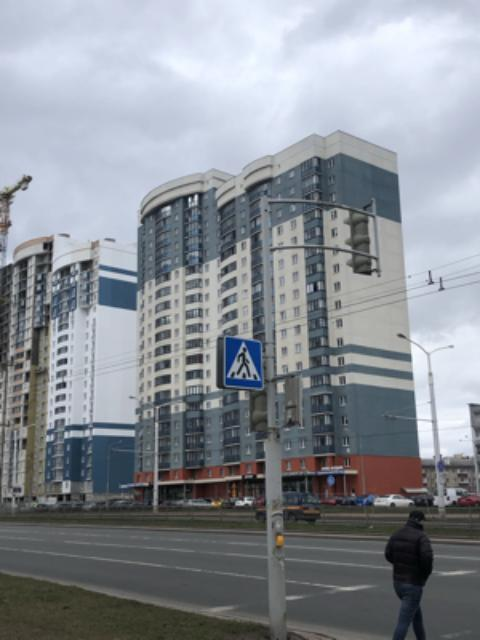crosswalk-sign: (221, 335, 265, 392)
